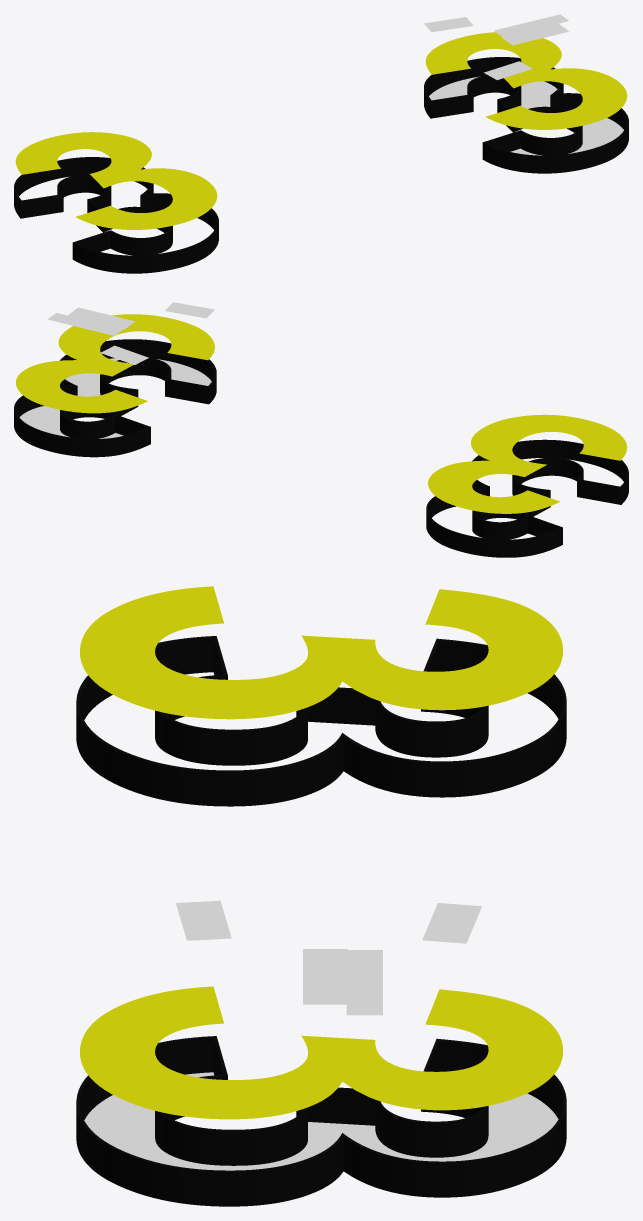
3 views of the same model, one above another, from view 1: azimuth 30°, elevation 25°; view 2: azimuth 150°, elevation 25°; view 3: azimuth 270°, elevation 25° (orthographic). The views are drawn at different scales.
Visible parts, largest first — view 1: 3_show_border, 3_border, 3_show_fill, 3_paint_2, 3_paint_1, 3_origin, trigger_3_2_start, trigger_3_1_end, trigger_3_2_end, trigger_3_1_start; view 2: 3_show_border, 3_border, 3_show_fill, 3_paint_1, 3_paint_2, 3_origin, trigger_3_2_start, trigger_3_1_end, trigger_3_2_end, trigger_3_1_start; view 3: 3_show_border, 3_border, 3_show_fill, 3_paint_2, 3_paint_1, 3_origin, trigger_3_2_start, trigger_3_1_end, trigger_3_1_start, trigger_3_2_end.
Boxes of the visible parts, box(x1,y1,x2,y2) form: 3_show_border: box(14, 157, 218, 273); 3_border: box(424, 57, 628, 173); 3_show_fill: box(15, 132, 217, 229); 3_paint_2: box(485, 68, 627, 129); 3_paint_1: box(425, 32, 561, 88); 3_origin: box(429, 76, 623, 155); trigger_3_2_start: box(501, 23, 568, 45); trigger_3_1_end: box(494, 14, 568, 37); trigger_3_2_end: box(484, 61, 532, 80); trigger_3_1_start: box(424, 17, 473, 32); 3_show_border: box(426, 439, 628, 557); 3_border: box(14, 339, 216, 457); 3_show_fill: box(428, 414, 627, 513); 3_paint_1: box(15, 360, 147, 413); 3_paint_2: box(58, 314, 214, 363); 3_origin: box(19, 358, 211, 438); trigger_3_2_start: box(67, 307, 135, 329); trigger_3_1_end: box(47, 313, 122, 335); trigger_3_2_end: box(165, 302, 214, 318); trigger_3_1_start: box(100, 345, 148, 364); 3_show_border: box(76, 636, 566, 806); 3_border: box(76, 1036, 566, 1206); 3_show_fill: box(80, 586, 562, 719); 3_paint_2: box(80, 986, 341, 1119); 3_paint_1: box(301, 989, 562, 1110); 3_origin: box(84, 1072, 558, 1170); trigger_3_2_start: box(303, 949, 347, 1004); trigger_3_1_end: box(346, 950, 382, 1015); trigger_3_1_start: box(422, 903, 481, 943); trigger_3_2_end: box(176, 900, 231, 940).
Bounding box in the file's own units: 1.34 × 0.2 × 0.5179.
